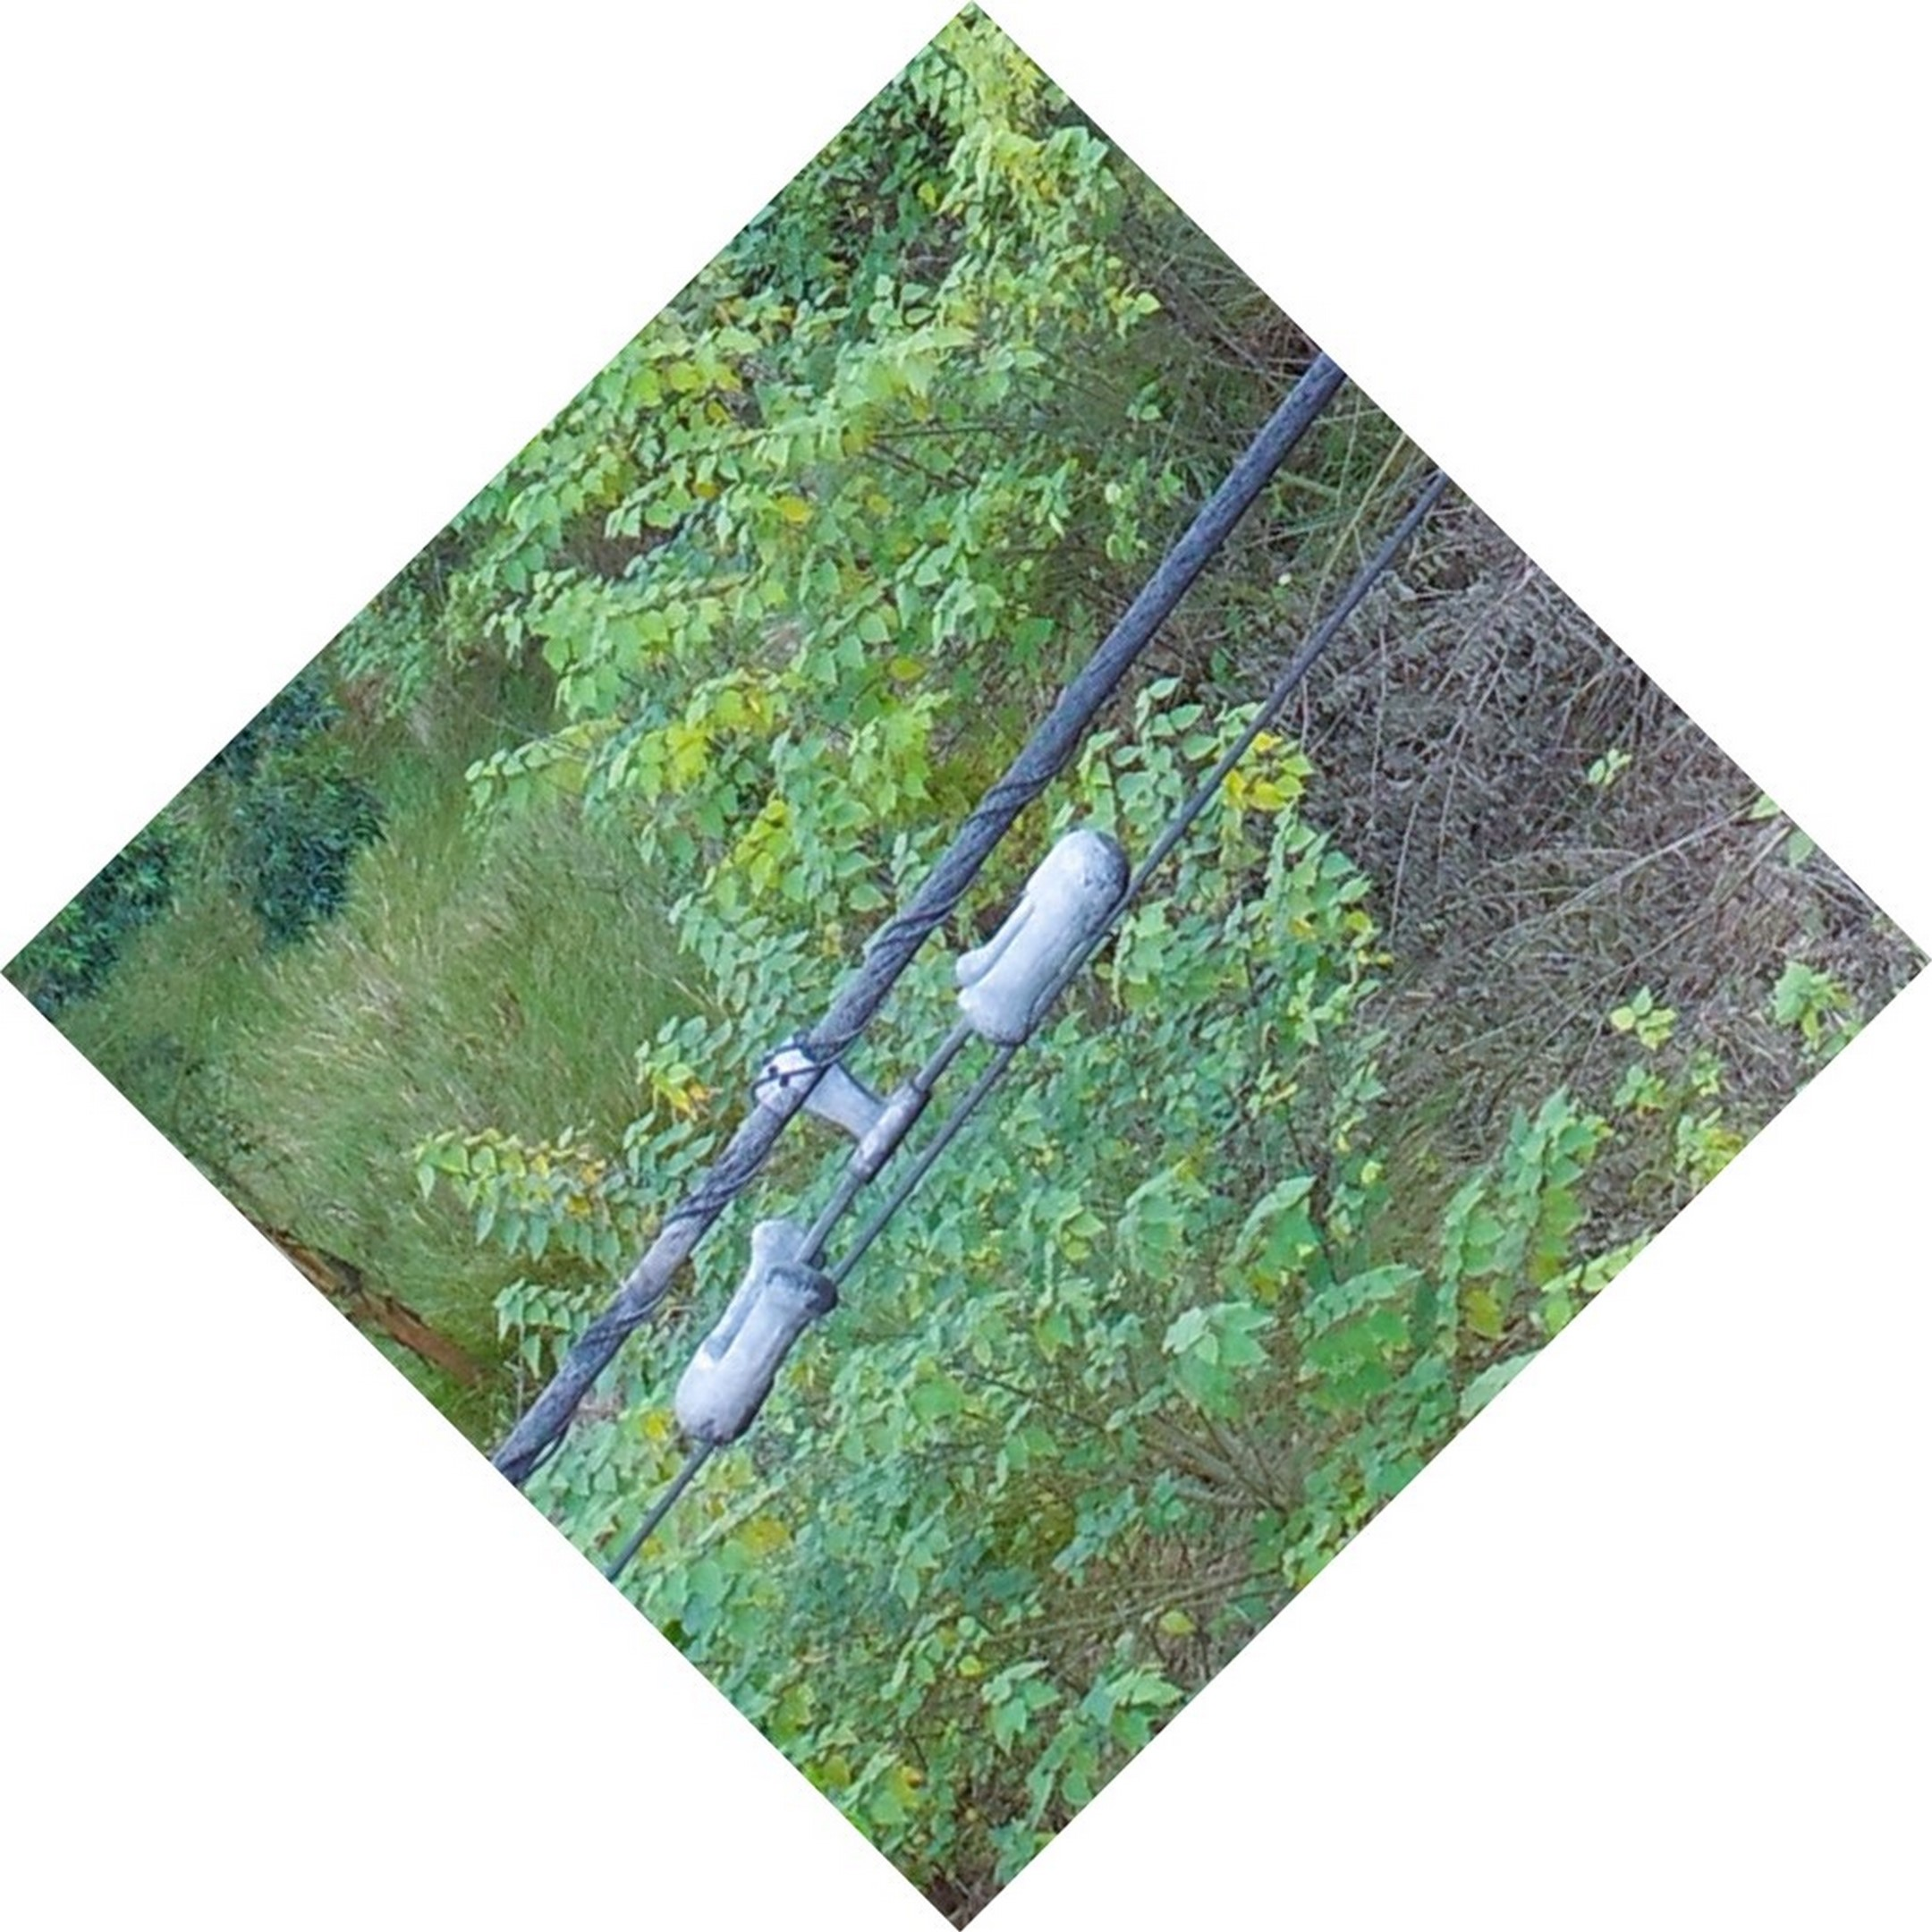Shockproof hammer: (612, 793, 1180, 1460)
